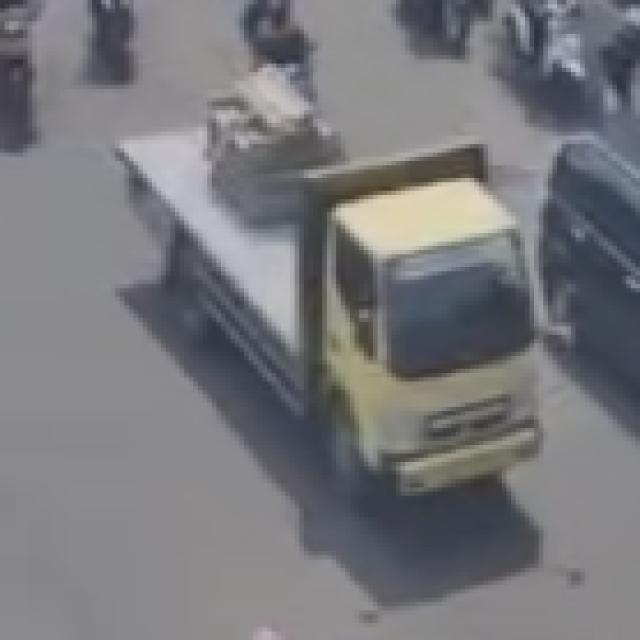truck: (252, 98, 589, 550)
